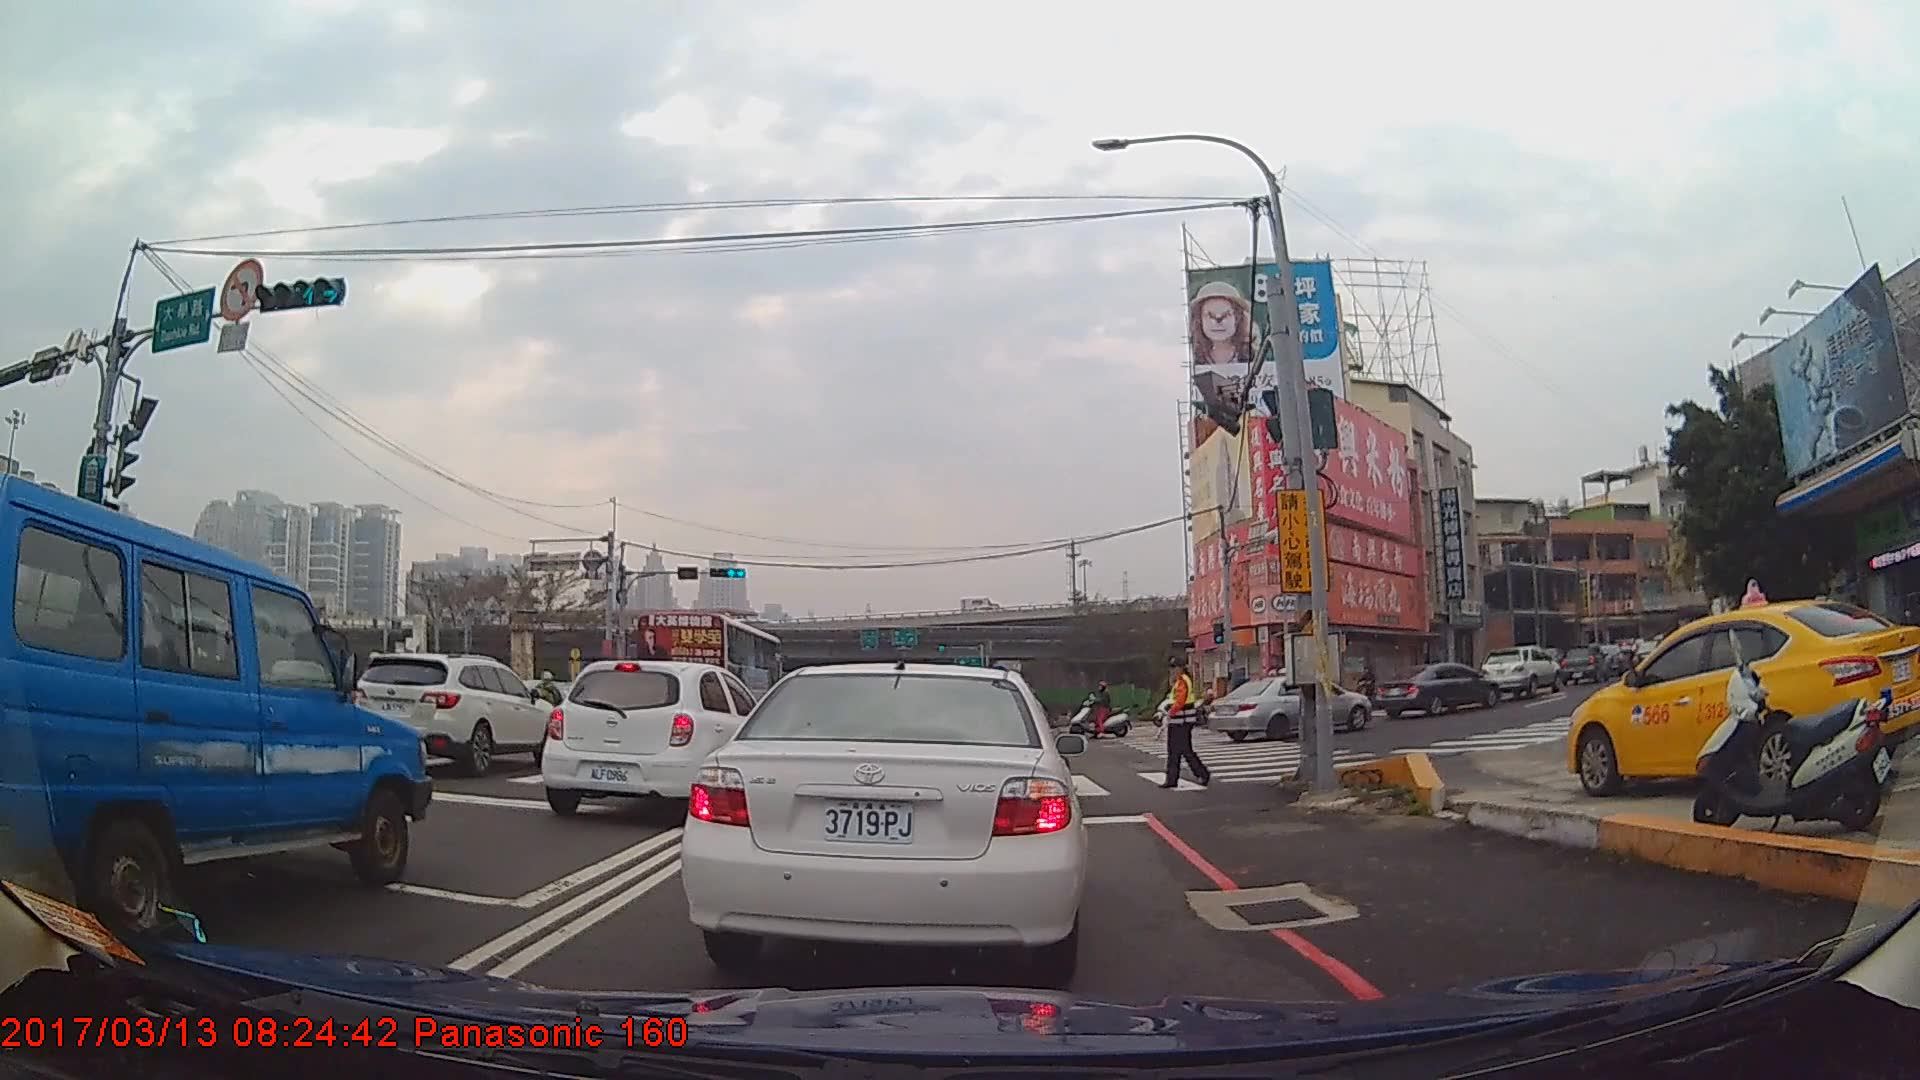pedestrian: (1155, 656, 1212, 791)
rider: (1071, 682, 1132, 738), (532, 671, 564, 741), (1355, 663, 1383, 712)
vehicle: (0, 470, 431, 945), (681, 660, 1088, 979), (1566, 598, 1920, 797), (539, 658, 782, 825), (344, 651, 561, 773), (633, 611, 781, 724), (1209, 674, 1371, 744), (1375, 661, 1498, 720), (1482, 645, 1562, 701), (1560, 642, 1607, 688)
